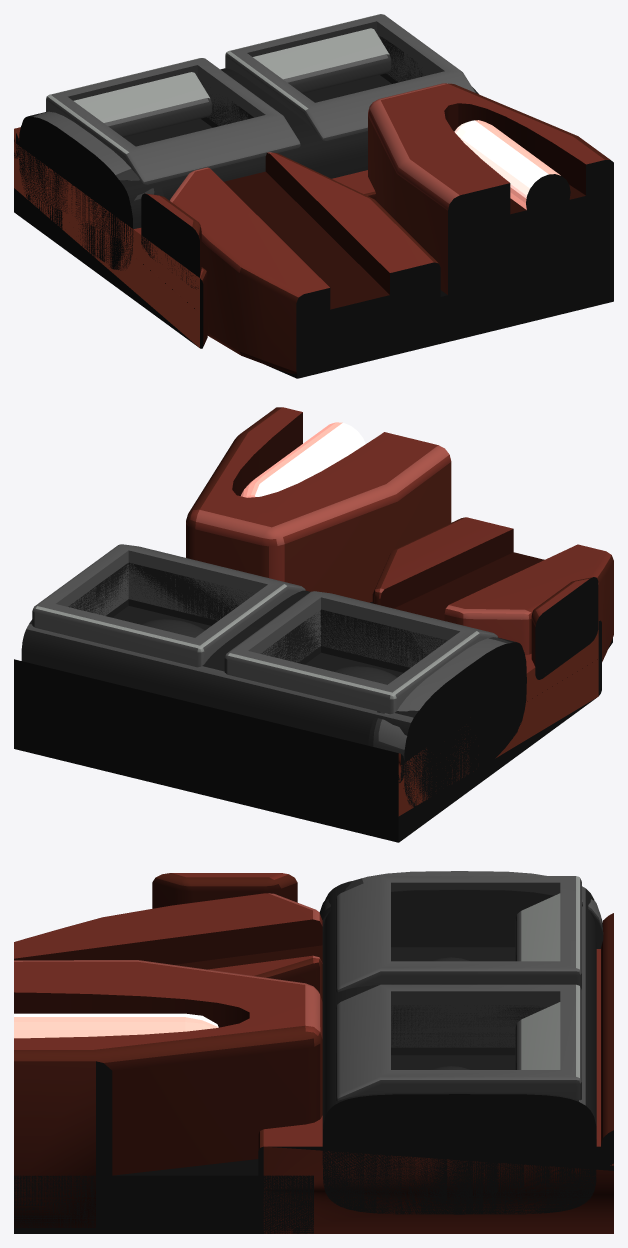
Rendered from savara_boss_165.glb.
The picture shows the model from 3 angles, top to bottom: view 1: azimuth 30°, elevation 25°; view 2: azimuth 150°, elevation 25°; view 3: azimuth 270°, elevation 25°; orthographic projection. The views are drawn at different scales.
Visible parts, largest first — view 1: savara_boss_165; view 2: savara_boss_165; view 3: savara_boss_165.
Part boxes in pixels (x1,y1,x2,y2): savara_boss_165: [14, 14, 613, 378]; savara_boss_165: [14, 407, 613, 842]; savara_boss_165: [14, 871, 613, 1233].
Bounding box in the file's own units: 24 × 9.2 × 28.
